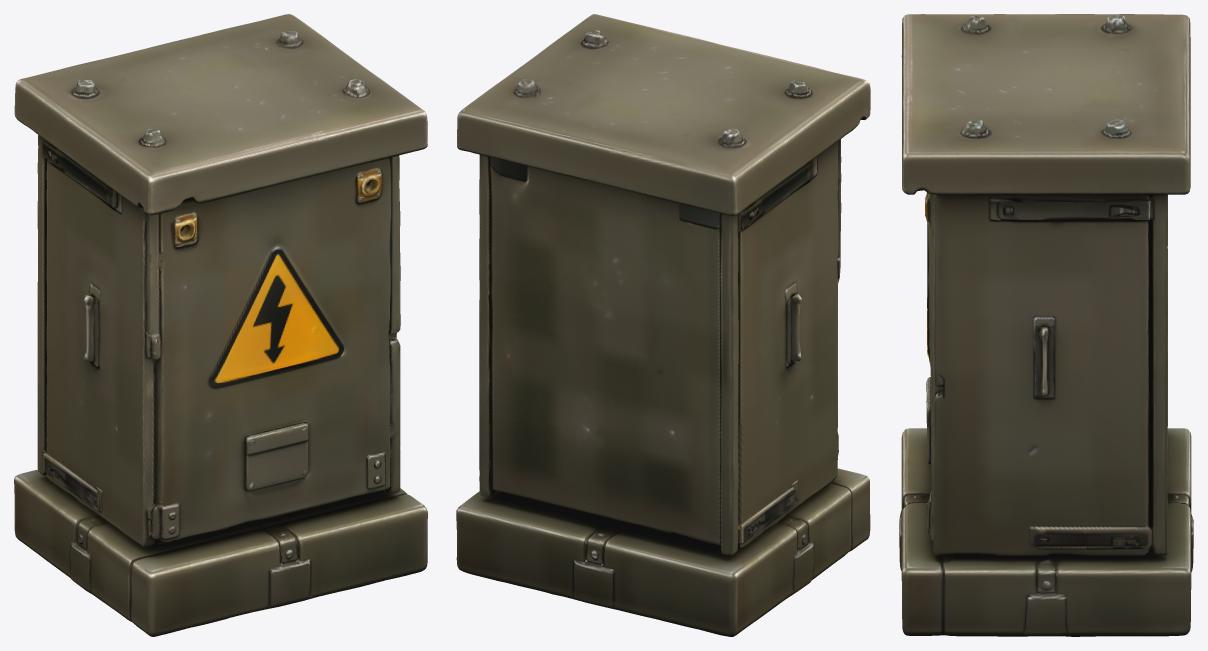
Rendered from base_basic_shaded.glb.
The picture shows the model from 3 angles, left to right: view 1: azimuth 30°, elevation 25°; view 2: azimuth 150°, elevation 25°; view 3: azimuth 270°, elevation 25°; orthographic projection. The views are drawn at different scales.
Parts seen in each view (by area): view 1: root.0, root.1, root.2, root.4, root.6; view 2: root.0, root.1, root.4, root.6; view 3: root.0, root.1, root.3, root.5, root.8.
Part boxes in pixels (box(x1,y1,x2,y2)): root.0: box(14, 14, 427, 546); root.1: box(14, 469, 427, 636); root.2: box(245, 422, 308, 490); root.4: box(42, 139, 116, 208); root.6: box(84, 295, 98, 366); root.0: box(457, 14, 870, 555); root.1: box(456, 468, 870, 636); root.4: box(741, 158, 815, 229); root.6: box(786, 293, 801, 365); root.0: box(901, 14, 1190, 555); root.1: box(899, 428, 1193, 636); root.3: box(997, 200, 1150, 219); root.5: box(1034, 326, 1054, 398); root.8: box(1034, 536, 1140, 548).
Size of the model in its own units: 1.19 by 1.88 by 1.01.
Materials: 9 (9 with a texture image).
